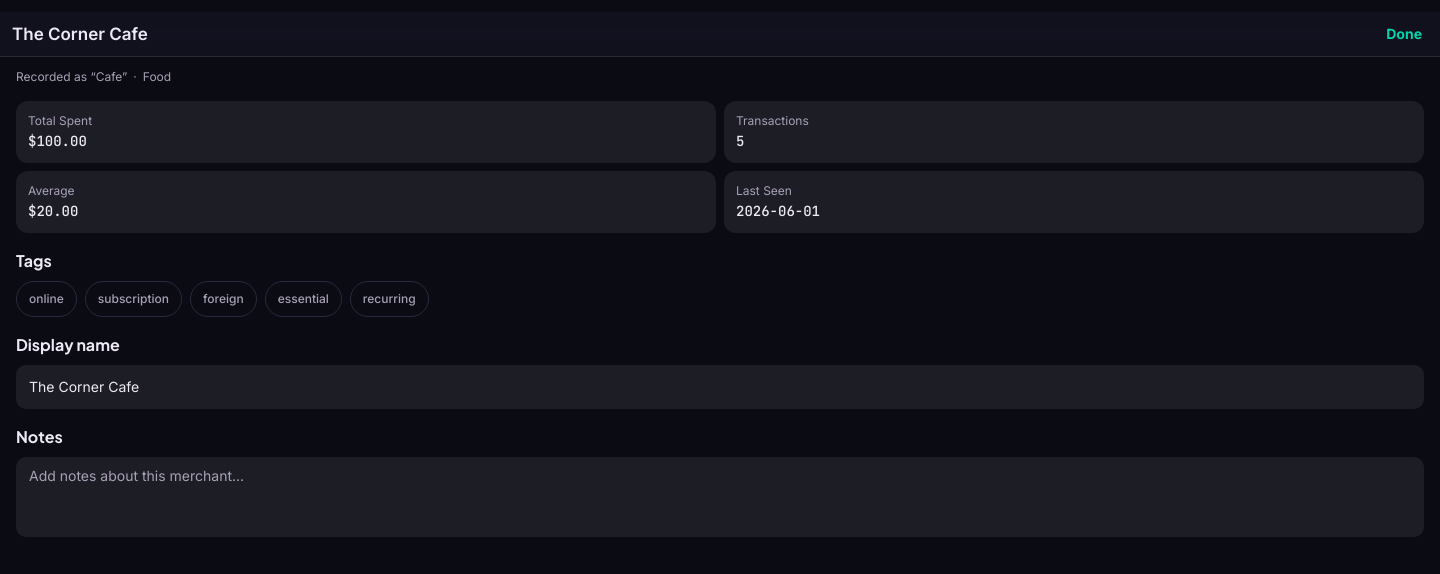
Test: shows the recorded merchant string alongside a set display name, and saves an edit
Check: the heading "The Corner Cafe" is shown, box [12, 24, 148, 44]
Check: the text "Recorded as “Cafe”" is shown, box [16, 69, 127, 85]
Replace the text in the field showing "The Corner Cafe" with "New Name" at (720, 387), box [16, 365, 1424, 409]
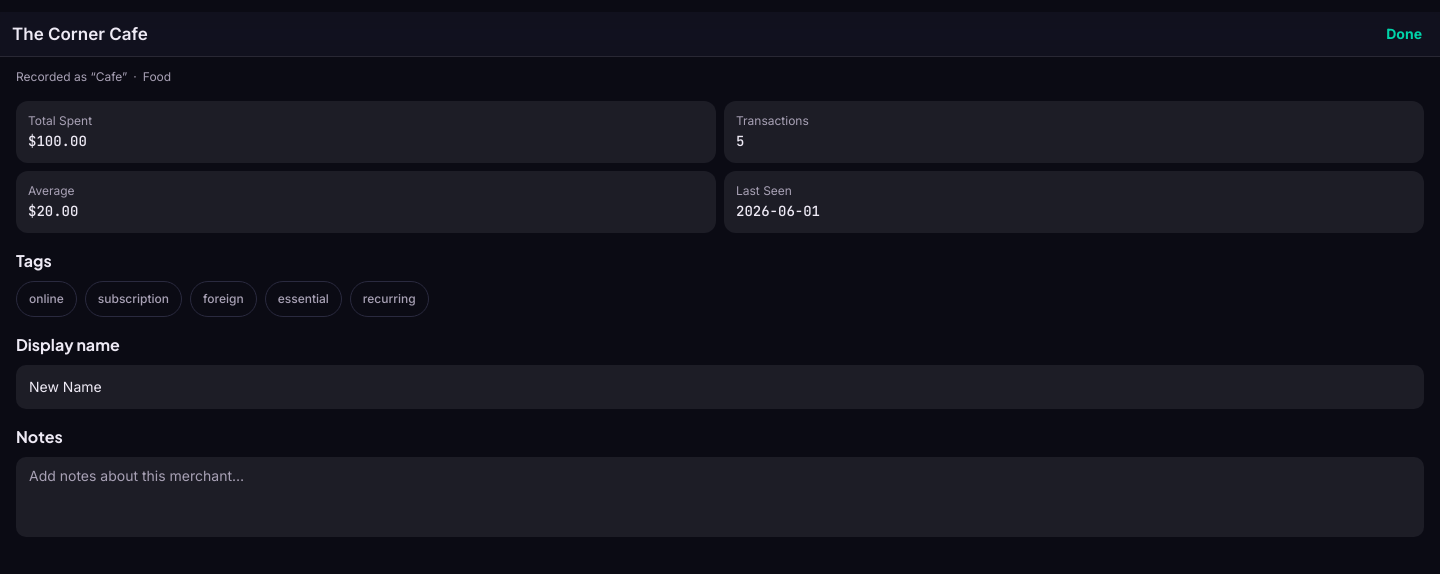
Leave the field showing "The Corner Cafe", box [16, 365, 1424, 409]
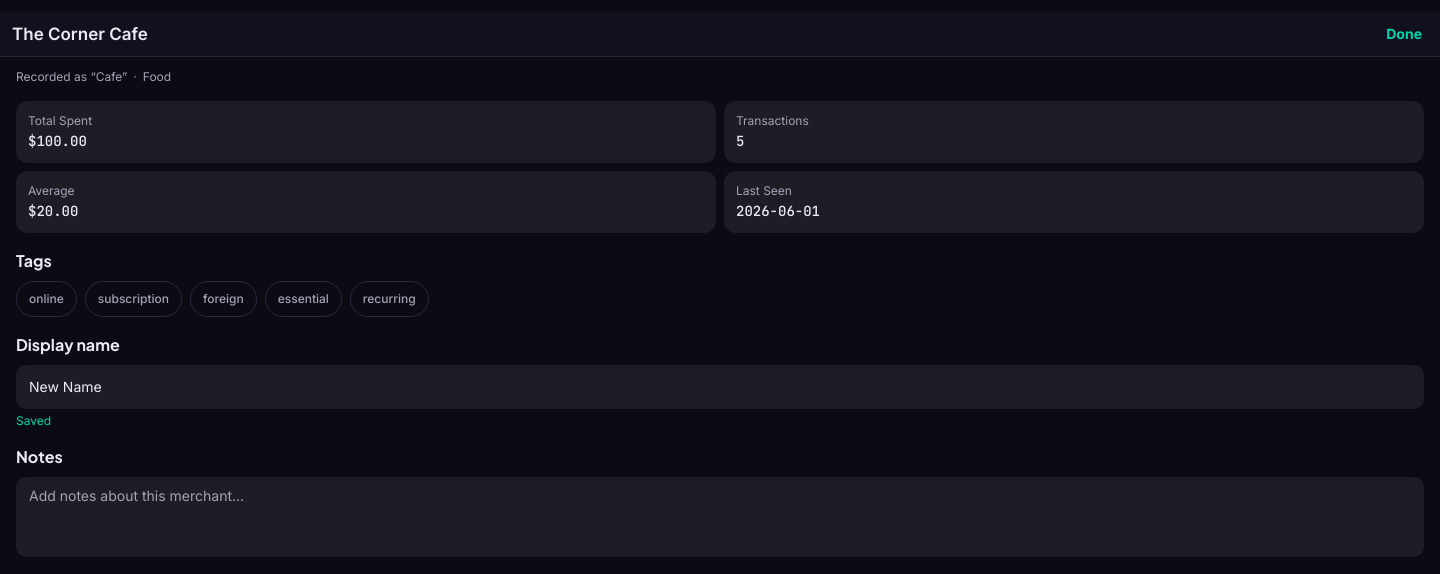
Check: the text "Saved" is shown, box [16, 413, 51, 428]
